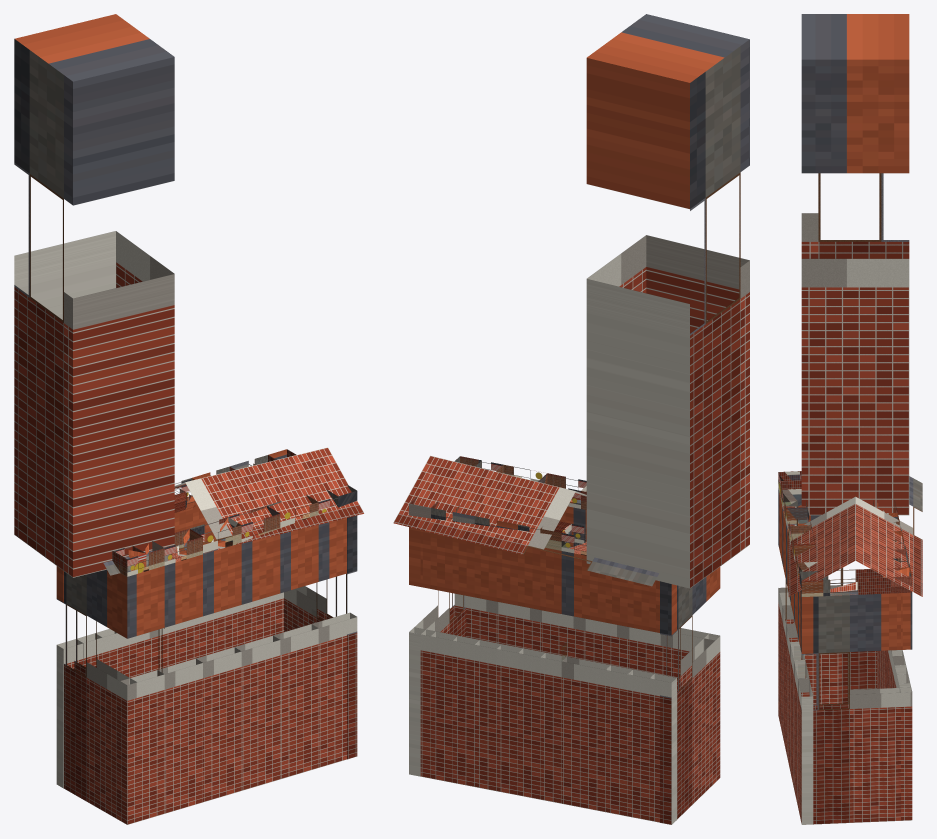
The picture shows the model from 3 angles, left to right: view 1: azimuth 30°, elevation 25°; view 2: azimuth 150°, elevation 25°; view 3: azimuth 270°, elevation 25°; orthographic projection. The views are drawn at different scales.
Visible parts, largest first — view 1: 1085367133__chimney_0_xb, 1085367133__wall_18_xb, 1085367133_roof_-1_xb, 1085367133__wall_3_xb, 1085367133__wall_1_xb, 1085367133__wall_2_xb, 1085367133__wall_4_xb, 1085367133__wall_0_xb, 1085367133__wall_5_xb, 1085367133__wall_6_xb, 1085367133__wall_17_xb, 1085367133__wall_14_xb (+11 smaller); view 2: 1085367133__chimney_0_xb, 1085367133_roof_1_xb, 1085367133__wall_18_xb, 1085367133__wall_14_xb, 1085367133__wall_12_xb, 1085367133__wall_8_xb, 1085367133__wall_10_xb, 1085367133__wall_9_xb, 1085367133__wall_13_xb, 1085367133__wall_15_xb, 1085367133__wall_16_xb, 1085367133__wall_11_xb (+9 smaller); view 3: 1085367133__chimney_0_xb, 1085367133__wall_6_xb, 1085367133_roof_1_xb, 1085367133_roof_-1_xb, 1085367133__wall_18_xb, 1085367133__wall_5_xb, 1085367133__wall_7_xb, 1085367133__cornice_6, 1085367133__wall_2_xb, 1085367133__wall_0_xb, 1085367133__wall_1_xb, 1085367133__wall_3_xb (+7 smaller).
Boxes of the visible parts, x1,y1,x2,y2 form: 1085367133__chimney_0_xb: (14, 14, 174, 577); 1085367133__wall_18_xb: (56, 569, 136, 824); 1085367133_roof_-1_xb: (103, 447, 364, 575); 1085367133__wall_3_xb: (234, 534, 280, 790); 1085367133__wall_1_xb: (157, 553, 202, 813); 1085367133__wall_2_xb: (196, 541, 241, 802); 1085367133__wall_4_xb: (273, 525, 318, 779); 1085367133__wall_0_xb: (120, 566, 164, 824); 1085367133__wall_5_xb: (312, 518, 357, 767); 1085367133__wall_6_xb: (284, 515, 357, 759); 1085367133__wall_17_xb: (56, 566, 83, 788); 1085367133__wall_14_xb: (122, 629, 160, 677); 1085367133__chimney_0_xb: (586, 14, 749, 588); 1085367133_roof_1_xb: (393, 455, 658, 586); 1085367133__wall_18_xb: (660, 567, 720, 824); 1085367133__wall_14_xb: (561, 546, 610, 812); 1085367133__wall_12_xb: (518, 547, 545, 799); 1085367133__wall_8_xb: (430, 532, 457, 782); 1085367133__wall_10_xb: (474, 543, 501, 791); 1085367133__wall_9_xb: (452, 538, 479, 786); 1085367133__wall_13_xb: (540, 548, 566, 803); 1085367133__wall_15_xb: (605, 575, 632, 816); 1085367133__wall_16_xb: (627, 580, 654, 820); 1085367133__wall_11_xb: (496, 548, 522, 795); 1085367133__chimney_0_xb: (801, 14, 909, 515); 1085367133__wall_6_xb: (800, 590, 911, 824); 1085367133_roof_1_xb: (855, 476, 922, 596); 1085367133_roof_-1_xb: (788, 496, 855, 596); 1085367133__wall_18_xb: (779, 505, 876, 704); 1085367133__wall_5_xb: (798, 591, 813, 824); 1085367133__wall_7_xb: (898, 592, 912, 820); 1085367133__cornice_6: (799, 567, 909, 596); 1085367133__wall_2_xb: (786, 523, 801, 768); 1085367133__wall_0_xb: (778, 488, 790, 732); 1085367133__wall_1_xb: (782, 505, 794, 750); 1085367133__wall_3_xb: (790, 594, 805, 787).
Size of the model in its own units: 0.4198 by 1.05 by 0.2005.
Materials: 1 (1 with a texture image).
